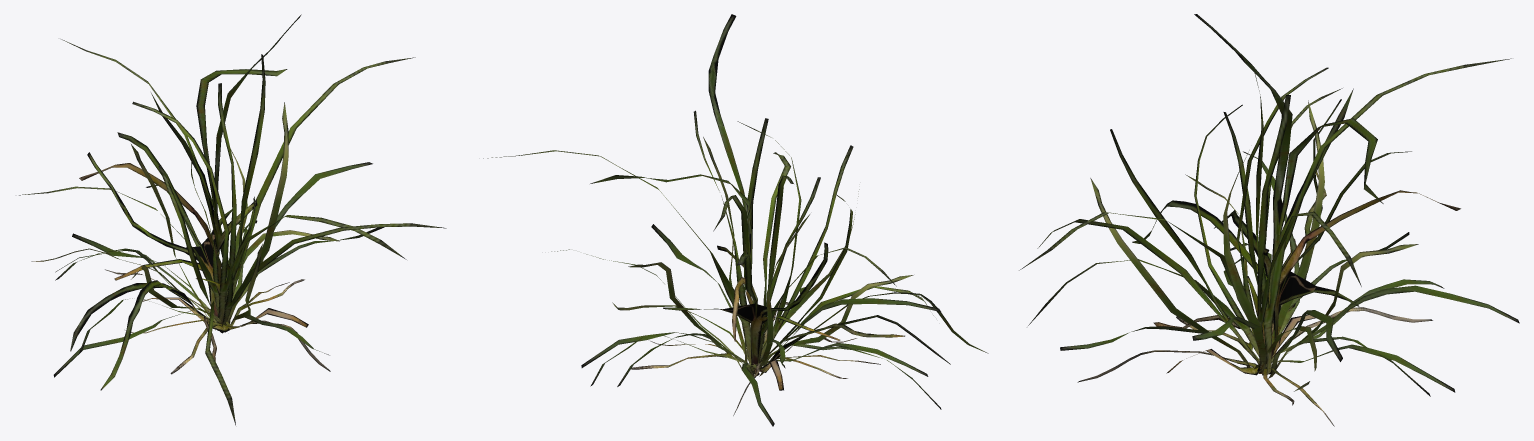
The model's file is grass_patch_small_a.glb.
3 renders of one model, left to right at view 1: azimuth 30°, elevation 25°; view 2: azimuth 150°, elevation 25°; view 3: azimuth 270°, elevation 25°, orthographic. The views are drawn at different scales.
Visible parts, largest first — view 1: grass_medium_01_small_a_LOD0; view 2: grass_medium_01_small_a_LOD0; view 3: grass_medium_01_small_a_LOD0.
Part boxes in pixels (x1,y1,x2,y2): grass_medium_01_small_a_LOD0: (19, 14, 446, 425); grass_medium_01_small_a_LOD0: (483, 14, 988, 426); grass_medium_01_small_a_LOD0: (1019, 14, 1519, 426).
Size of the model in its own units: 0.1848 by 0.1404 by 0.1623.
1 material, 1 textured.
